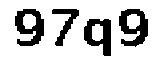7: (51, 3, 79, 53)
9: (113, 5, 151, 51), (9, 5, 46, 51)
q: (81, 15, 114, 59)
